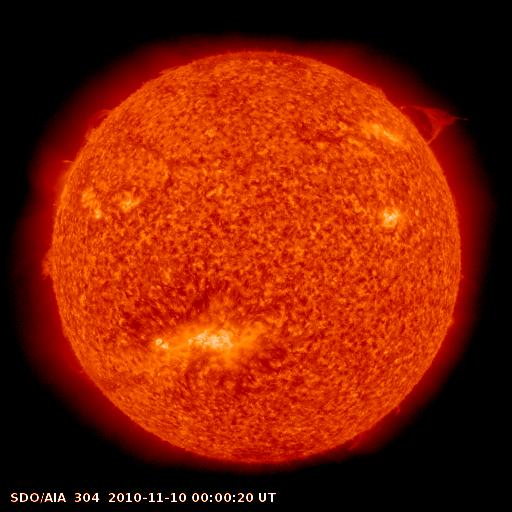prominence: (388, 90, 481, 160), (338, 397, 408, 454), (34, 153, 82, 210), (75, 97, 126, 144), (33, 237, 67, 292)
